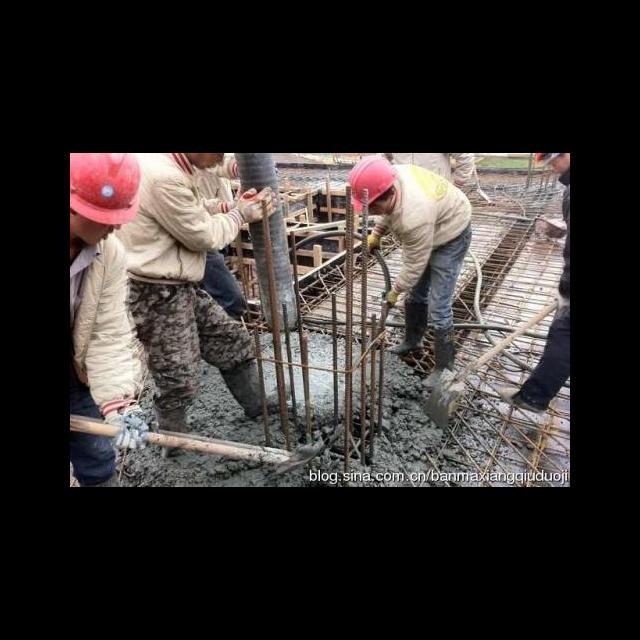Gloves: (107, 414, 151, 451), (235, 187, 278, 221), (552, 291, 570, 324), (541, 218, 570, 238), (387, 289, 400, 309), (233, 184, 243, 208), (366, 232, 378, 250)
Hardhat: (70, 153, 140, 225), (350, 157, 393, 210), (536, 153, 561, 163)
NO-Mask: (80, 225, 104, 246), (196, 158, 215, 172), (558, 164, 570, 175), (380, 207, 392, 217)
NO-Safety Vest: (121, 155, 210, 282), (390, 165, 472, 246), (70, 236, 105, 376), (192, 162, 233, 206), (390, 153, 452, 180), (562, 184, 570, 285)
Person: (113, 153, 297, 453), (348, 155, 471, 391), (71, 153, 150, 487), (498, 153, 570, 412), (380, 153, 473, 188)
